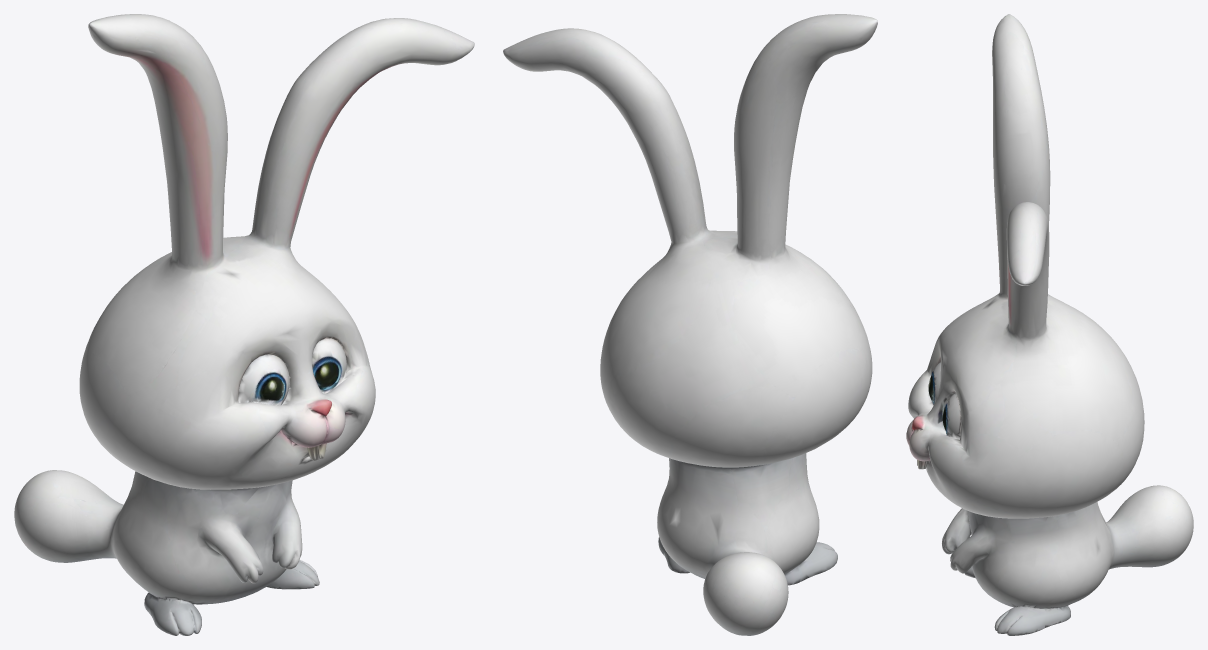
File: rabbit-web.glb
3 renders of one model, left to right at view 1: azimuth 30°, elevation 25°; view 2: azimuth 150°, elevation 25°; view 3: azimuth 270°, elevation 25°, orthographic. The views are drawn at different scales.
Parts seen in each view (by area): view 1: node_0; view 2: node_0; view 3: node_0.
Part boxes in pixels (left/top/right/bottom): node_0: left=14, top=14, right=474, bottom=635; node_0: left=503, top=14, right=877, bottom=635; node_0: left=906, top=14, right=1193, bottom=635.
Bounding box in the file's own units: 0.6671 × 0.9915 × 0.4896.
1 material, 1 textured.
